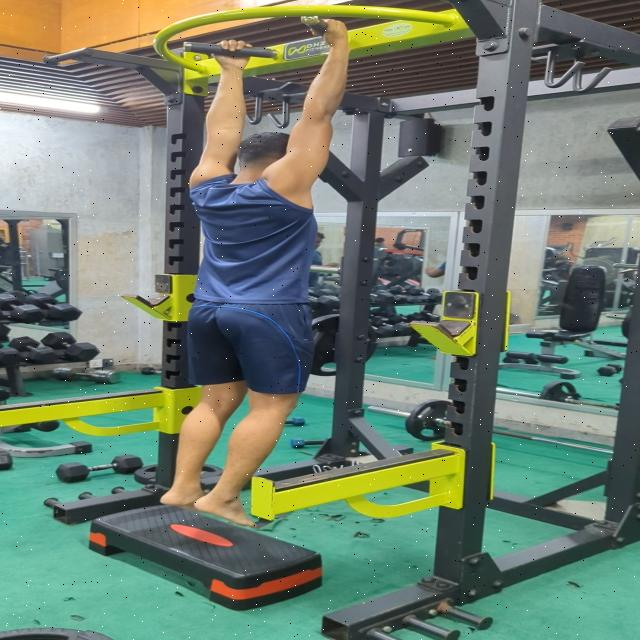Normal_PullUps: (154, 17, 359, 529)
